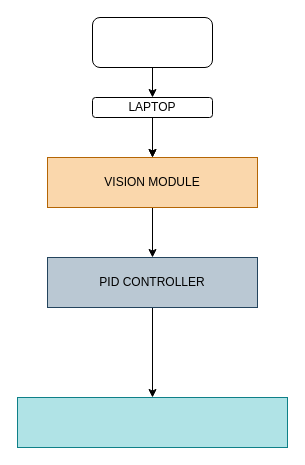
Image size: 305x465. Some labels were removed from this diagram. The shapes that lost their labels are listed below. From the top down, each one's box as (x1, y1, x2, y2) in pixels, then its label:
(92, 16, 212, 68): USB-Cam stream
(16, 396, 288, 448): MOTOR ACTUATION (correction)
